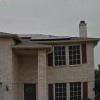Chimney: (72, 11, 93, 38)
